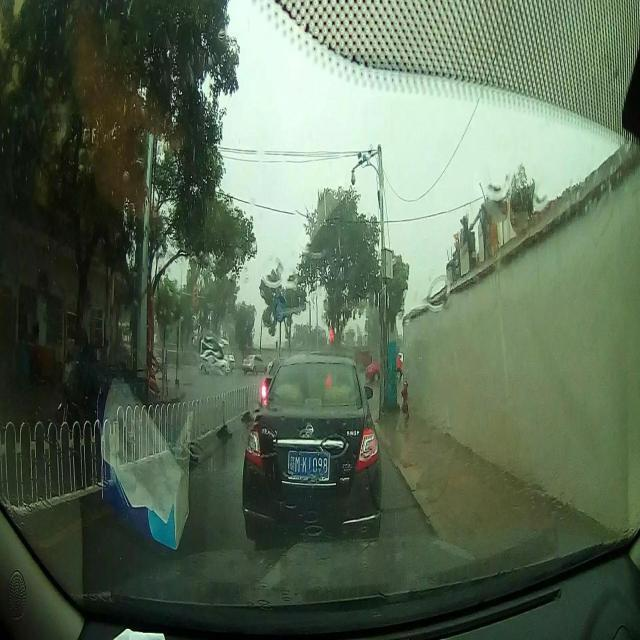car: (241, 352, 381, 536), (242, 352, 266, 376)
